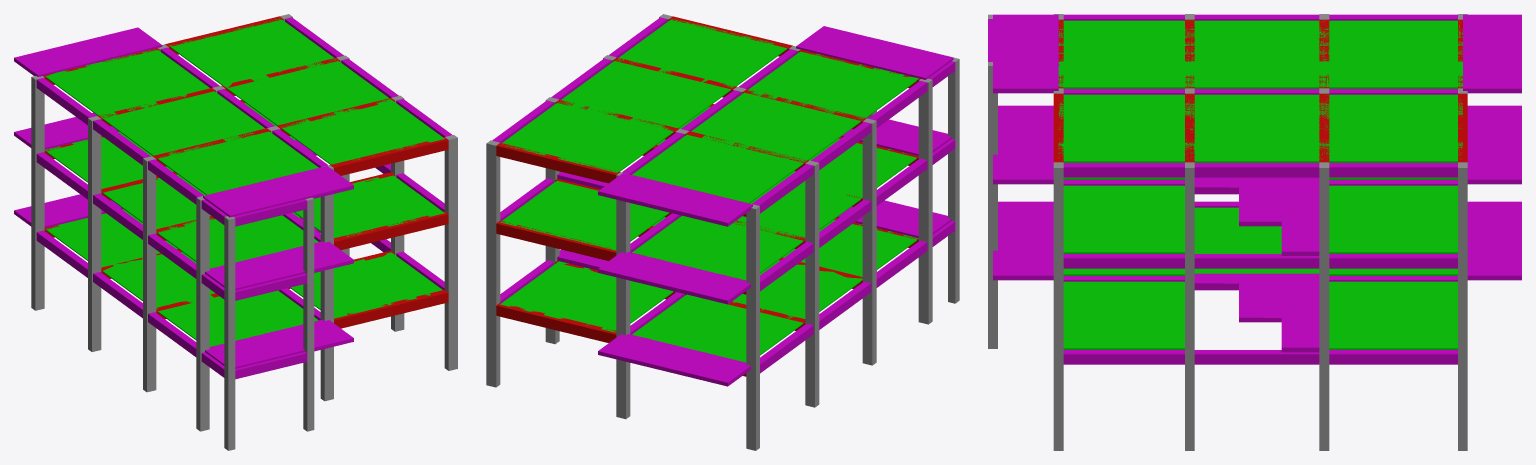
File: ammarigeniecivil .glb
3 renders of one model, left to right at view 1: azimuth 30°, elevation 25°; view 2: azimuth 150°, elevation 25°; view 3: azimuth 270°, elevation 25°, orthographic. The views are drawn at different scales.
Parts seen in each view (by area): view 1: Villa Ammari; view 2: Villa Ammari; view 3: Villa Ammari.
Boxes of the visible parts, left/top/right/bottom form: Villa Ammari: left=14, top=14, right=457, bottom=450; Villa Ammari: left=486, top=14, right=959, bottom=450; Villa Ammari: left=988, top=14, right=1521, bottom=450.
Size of the model in its own units: 109 by 94.44 by 160.
